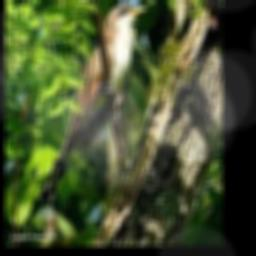Cuckoo: (41, 3, 147, 205)
